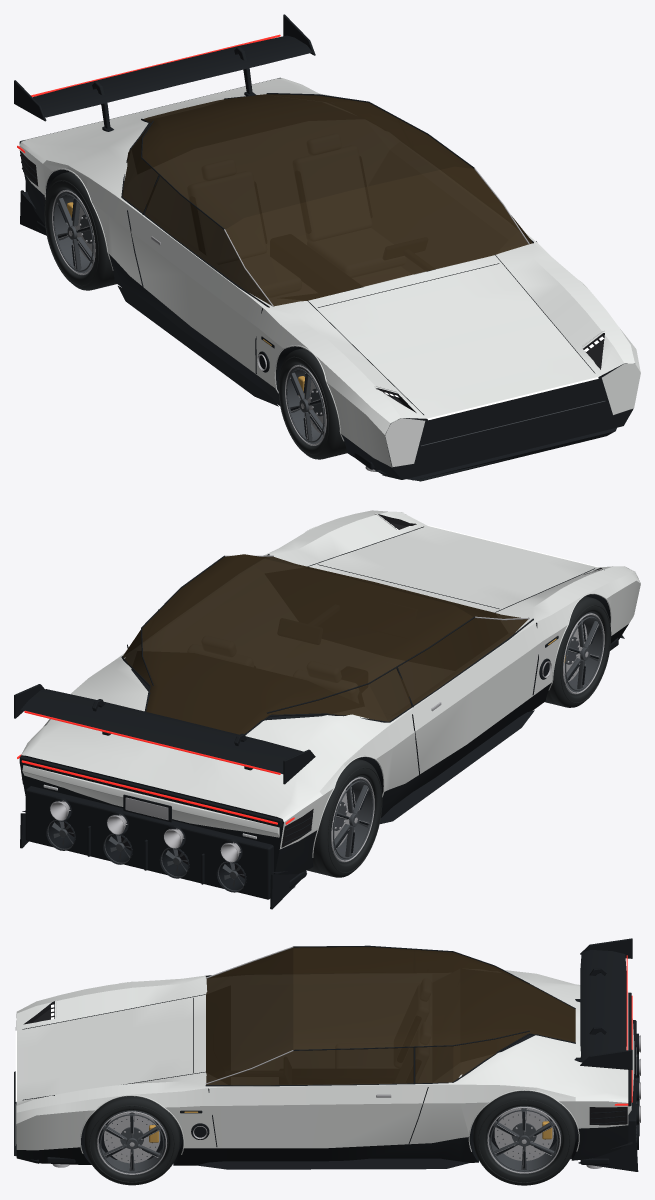
Rendered from roadster-rocket.glb.
3 views of the same model, one above another, from view 1: azimuth 30°, elevation 25°; view 2: azimuth 150°, elevation 25°; view 3: azimuth 270°, elevation 25° (orthographic). The views are drawn at different scales.
Visible parts, largest first — view 1: Body__Ano_White, Body__Gold_Glass, Rear_Wing__Carbon, Body__Carbon, Spinner_RL__Rubber, Spinner_FL__Rubber, Spinner_RL__Wheel_Graphite, Spinner_FL__Wheel_Graphite, Spinner_RL__Titanium, Spinner_FL__Titanium; view 2: Body__Ano_White, Body__Gold_Glass, Body__Carbon, Rear_Wing__Carbon, Spinner_RL__Rubber, Spinner_FL__Rubber, Spinner_RL__Wheel_Graphite, Body__Titanium, Spinner_FL__Wheel_Graphite, Body__Wheel_Graphite, Body__Thruster_Throat, Body__Brake_Lamp (+3 smaller); view 3: Body__Ano_White, Body__Gold_Glass, Body__Carbon, Rear_Wing__Carbon, Spinner_RR__Rubber, Spinner_FR__Rubber, Spinner_RR__Wheel_Graphite, Spinner_RR__Titanium, Spinner_FR__Wheel_Graphite, Spinner_FR__Titanium, Body__Thruster_Throat, Body__Titanium.
Part boxes in pixels (x1=…): Body__Ano_White: x1=19, y1=78, x2=640, y2=479; Body__Gold_Glass: x1=122, y1=94, x2=532, y2=307; Rear_Wing__Carbon: x1=14, y1=14, x2=315, y2=121; Body__Carbon: x1=19, y1=47, x2=616, y2=481; Spinner_RL__Rubber: x1=44, y1=171, x2=116, y2=290; Spinner_FL__Rubber: x1=278, y1=348, x2=346, y2=459; Spinner_RL__Wheel_Graphite: x1=53, y1=189, x2=94, y2=275; Spinner_FL__Wheel_Graphite: x1=286, y1=364, x2=326, y2=445; Spinner_RL__Titanium: x1=52, y1=190, x2=95, y2=274; Spinner_FL__Titanium: x1=285, y1=365, x2=326, y2=445; Body__Ano_White: x1=20, y1=510, x2=640, y2=874; Body__Gold_Glass: x1=122, y1=554, x2=527, y2=734; Body__Carbon: x1=19, y1=526, x2=624, y2=909; Rear_Wing__Carbon: x1=14, y1=684, x2=315, y2=784; Spinner_RL__Rubber: x1=307, y1=759, x2=382, y2=877; Spinner_FL__Rubber: x1=545, y1=596, x2=611, y2=707; Spinner_RL__Wheel_Graphite: x1=331, y1=776, x2=373, y2=862; Body__Titanium: x1=50, y1=555, x2=551, y2=888; Spinner_FL__Wheel_Graphite: x1=563, y1=612, x2=603, y2=694; Body__Wheel_Graphite: x1=47, y1=820, x2=246, y2=891; Body__Thruster_Throat: x1=20, y1=522, x2=407, y2=878; Body__Brake_Lamp: x1=17, y1=754, x2=294, y2=824; Body__Ano_White: x1=15, y1=970, x2=634, y2=1165; Body__Gold_Glass: x1=206, y1=947, x2=575, y2=1085; Body__Carbon: x1=14, y1=945, x2=639, y2=1171; Rear_Wing__Carbon: x1=580, y1=938, x2=632, y2=1069; Spinner_RR__Rubber: x1=473, y1=1090, x2=575, y2=1185; Spinner_FR__Rubber: x1=84, y1=1096, x2=179, y2=1185; Spinner_RR__Wheel_Graphite: x1=487, y1=1106, x2=561, y2=1173; Spinner_RR__Titanium: x1=487, y1=1106, x2=560, y2=1173; Spinner_FR__Wheel_Graphite: x1=97, y1=1110, x2=167, y2=1174; Spinner_FR__Titanium: x1=97, y1=1111, x2=167, y2=1174; Body__Thruster_Throat: x1=32, y1=1005, x2=627, y2=1125; Body__Titanium: x1=52, y1=946, x2=640, y2=1168.
Bounding box in the file's own units: 2.01 × 1.1 × 4.51.
